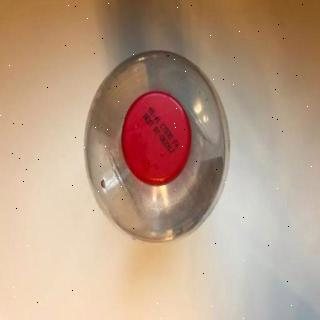Plastic-bottle: (84, 50, 232, 245)
